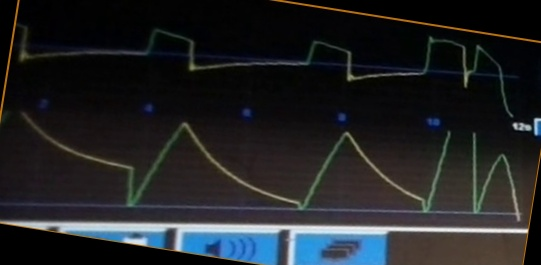Double_Triggering Flow: (17, 20, 510, 101)
Double_Triggering Volume: (20, 120, 521, 219)
